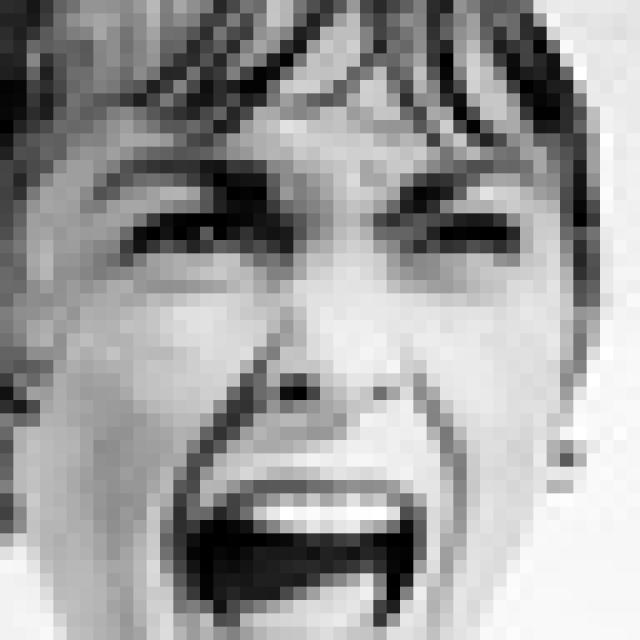angry: (102, 139, 540, 640)
